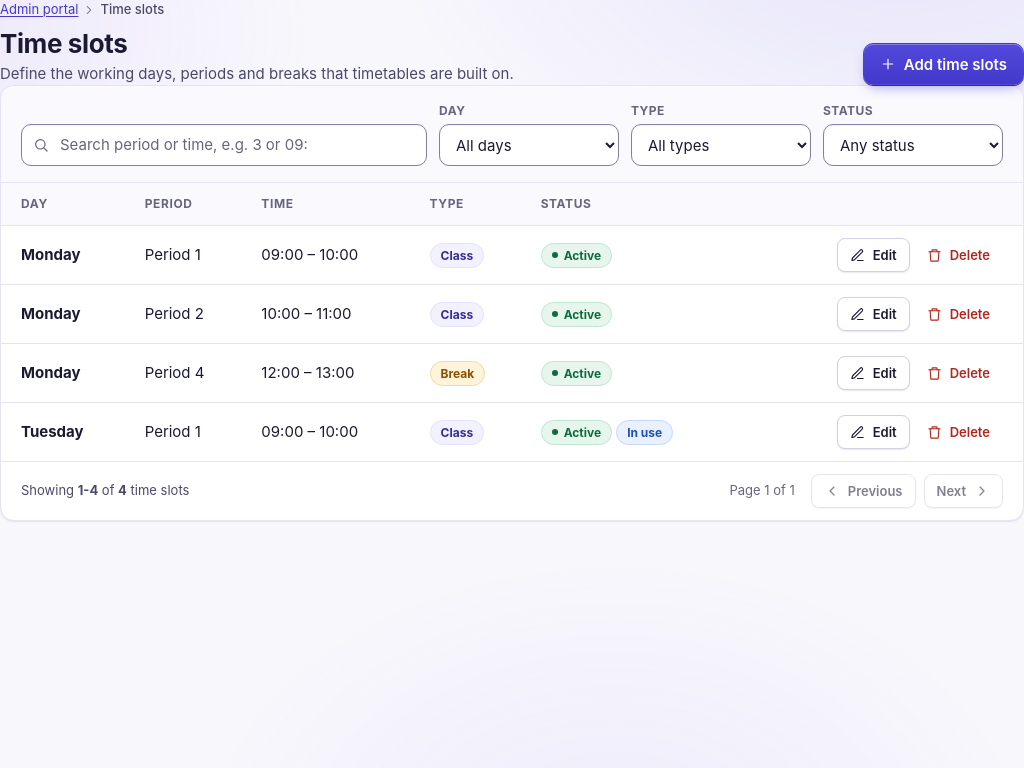
Time slots screen - create (DIY-TC09, TC10, TC12) › blocks an empty form, lists every problem and sends nothing
Click the button "Add time slots" at (943, 64), box [863,43,1023,85]
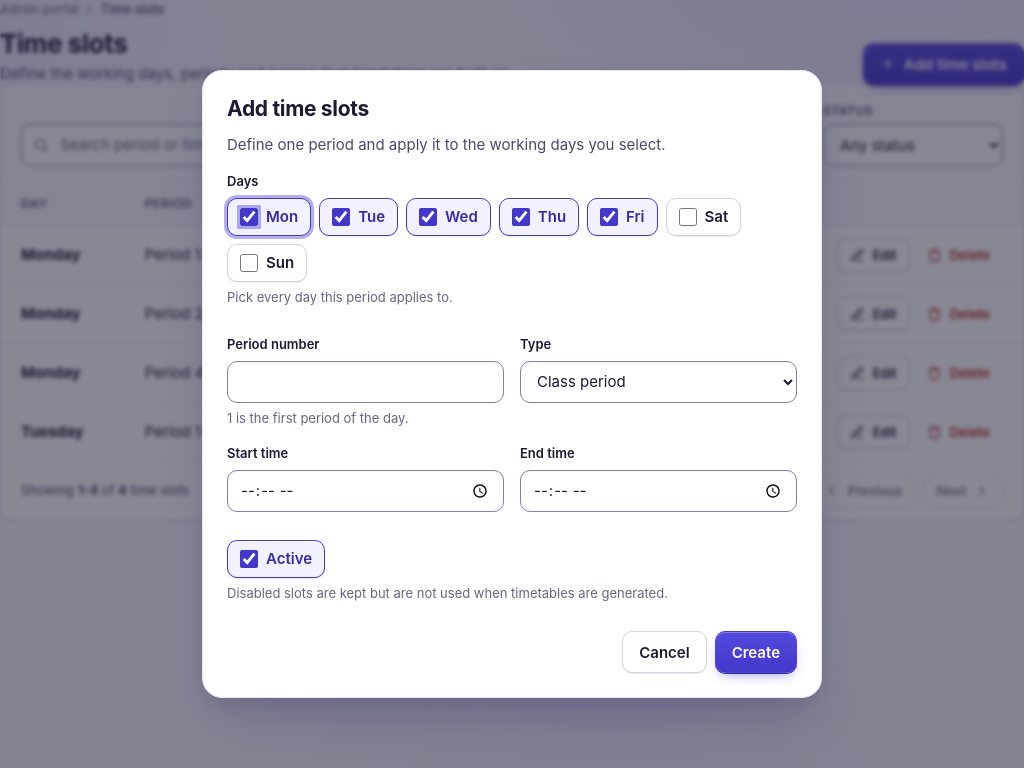
Click the button "Create" at (756, 652), box [715,631,797,673]
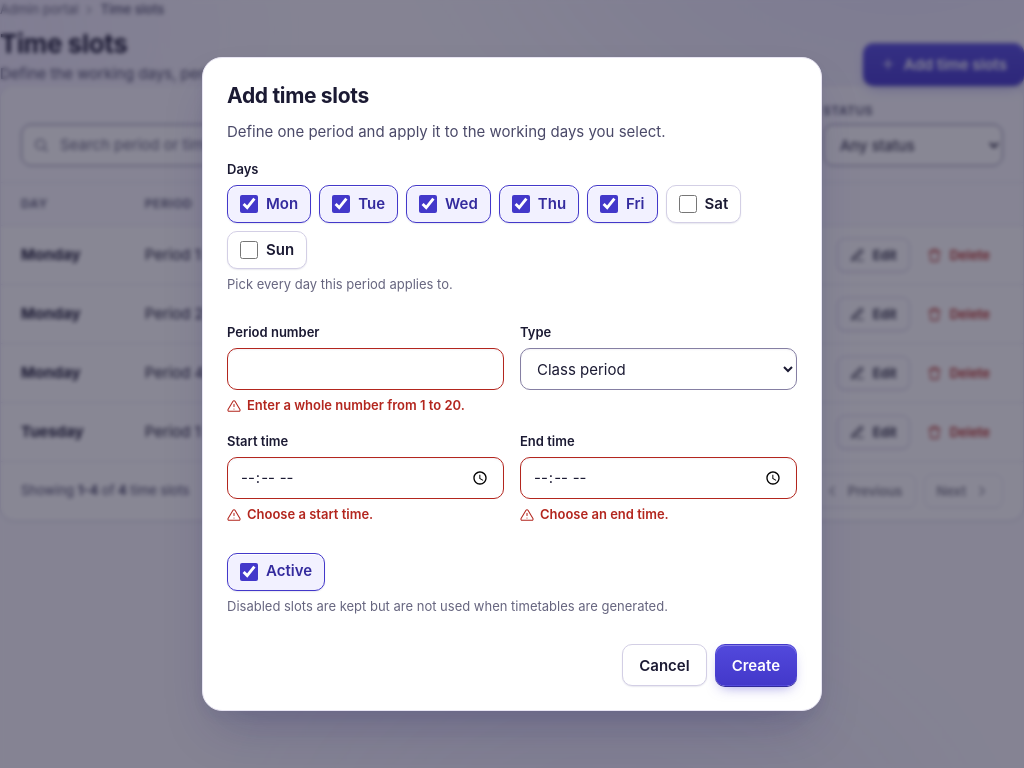
Result: the text "Enter a whole number from 1 to 20." is shown at [227,396,504,416]
Result: the text "Choose a start time." is shown at [227,506,373,522]
Result: the text "Choose an end time." is shown at [520,506,669,522]
